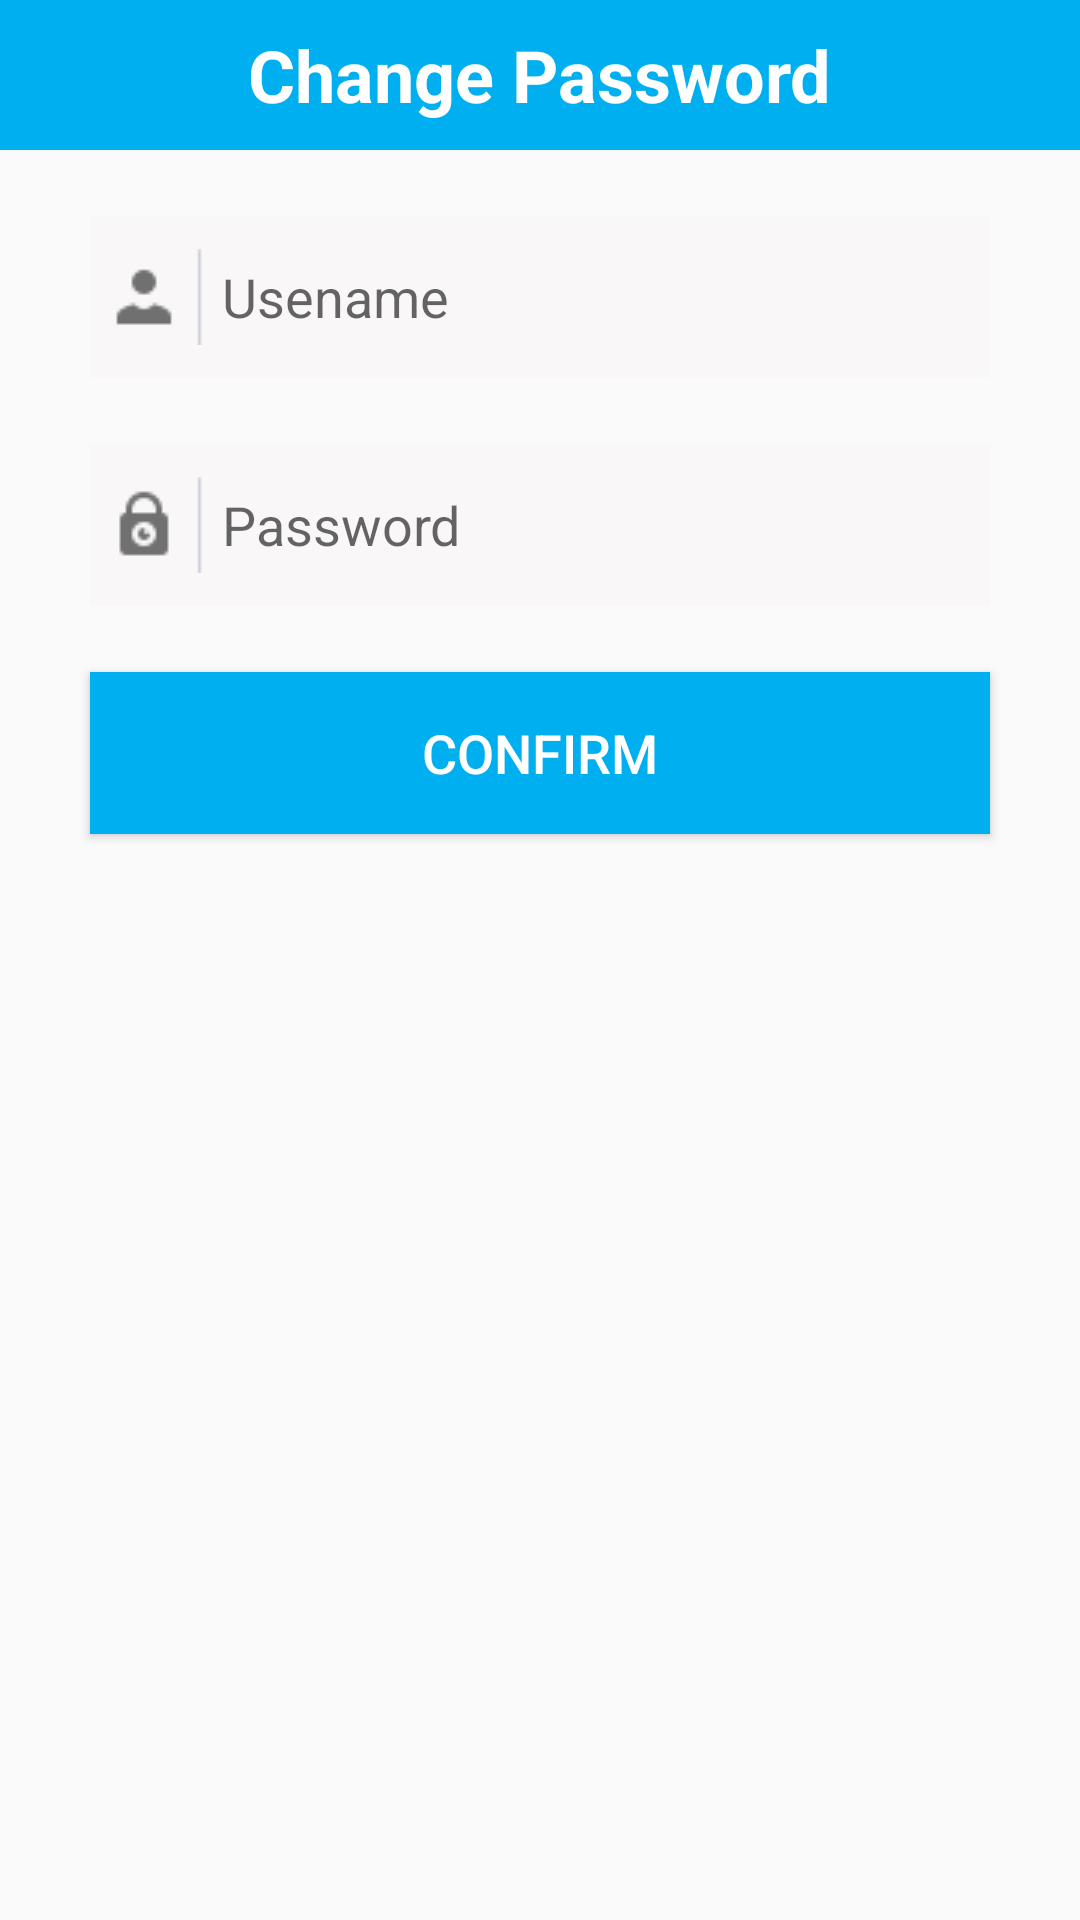

Named icons in this screenshot (1080px×1920px) and their bounding boxes, [x1, y1, x2, y2]:
matkhau: [119, 491, 169, 556]
